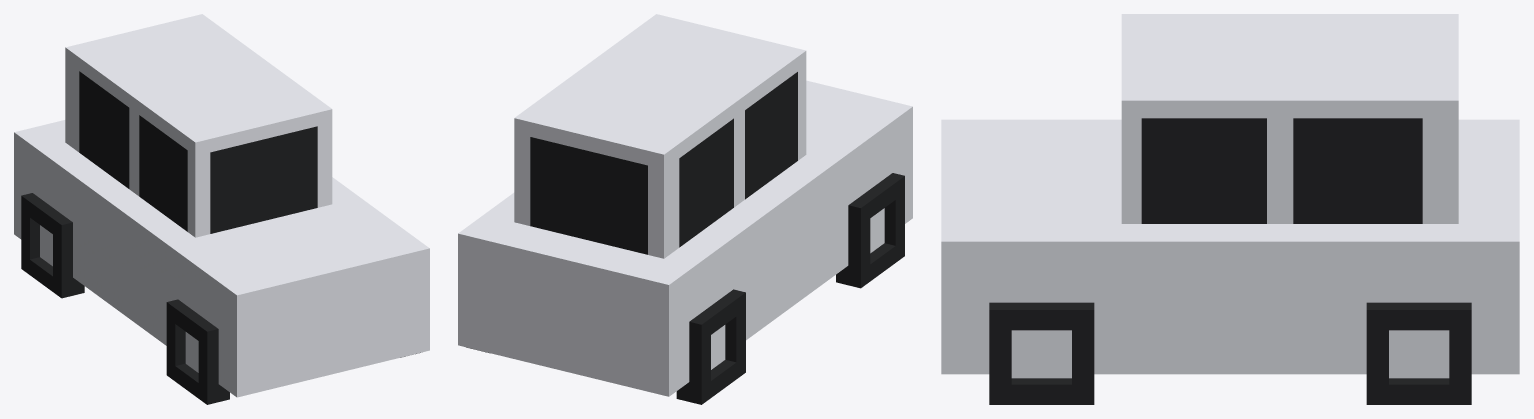
Rendered from Sedan.glb.
3 renders of one model, left to right at view 1: azimuth 30°, elevation 25°; view 2: azimuth 150°, elevation 25°; view 3: azimuth 270°, elevation 25°, orthographic. The views are drawn at different scales.
Parts seen in each view (by area): view 1: Body, Extras; view 2: Body, Extras; view 3: Body, Extras.
Boxes of the visible parts, <box> form: Body: <box>14,14,429,397</box>; Extras: <box>21,71,420,404</box>; Body: <box>458,14,912,396</box>; Extras: <box>466,72,904,404</box>; Body: <box>941,14,1519,374</box>; Extras: <box>989,118,1471,404</box>.
Size of the model in its own units: 1.68 by 1.6 by 3.
1 material, 1 textured.
